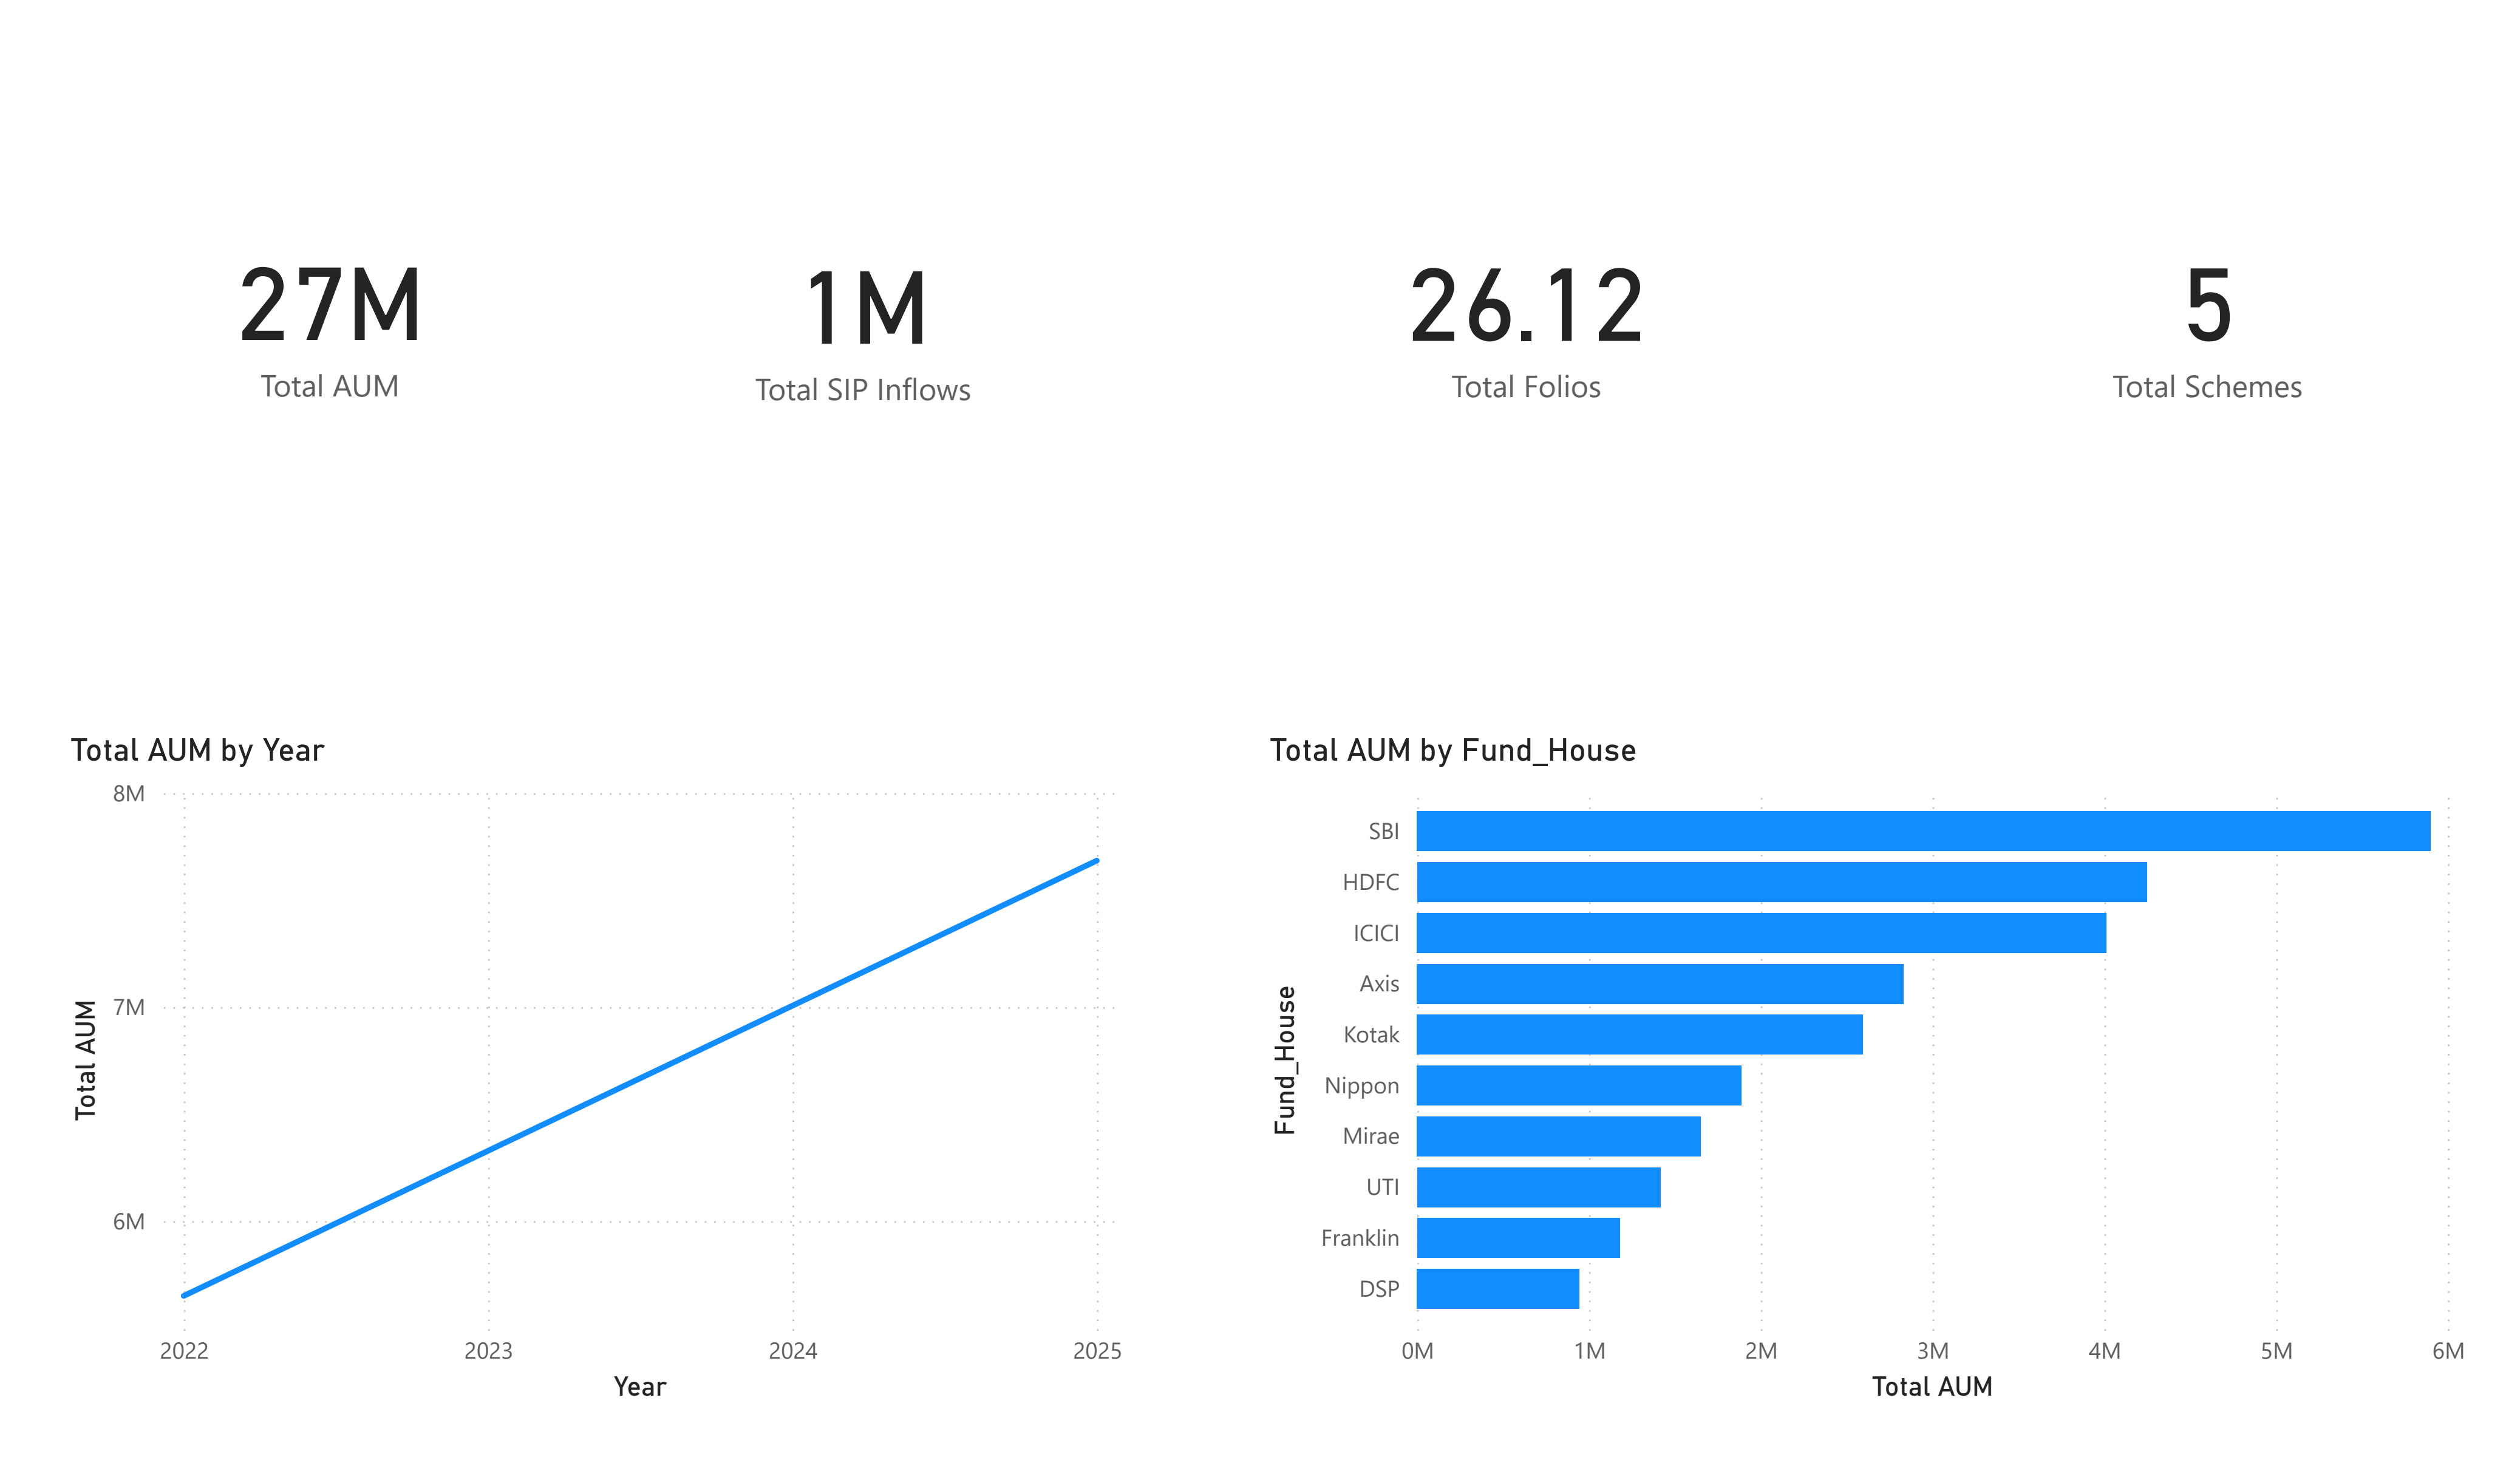

This screenshot's page, from the dashboard's own definition file:
{"tool":"powerbi","page":{"name":"Industry Overview","canvas":[1280,720],"ordinal":0},"visuals":[{"type":"card","fields":{"Values":["aum_data.Total AUM"]},"box":[10,0,280,280],"z":0},{"type":"card","fields":{"Values":["sip_inflows.Total SIP Inflows"]},"box":[290.4,3,281.5,278.5],"z":1000},{"type":"card","fields":{"Values":["folio_count.Total Folios"]},"box":[640,65.2,281.5,151.1],"z":2000},{"type":"card","fields":{"Values":["fund_scorecard_powerbi.Total Schemes"]},"box":[998.5,0,281.5,281.5],"z":3000},{"type":"lineChart","fields":{"Y":["aum_data.Total AUM"],"Category":["aum_data.Year"]},"box":[8.2,360.9,564,359.5],"z":4000},{"type":"clusteredBarChart","fields":{"Category":["aum_data.Fund_House"],"Y":["aum_data.Total AUM"]},"box":[640,361.5,640,358.5],"z":5000}]}

Visuals, with their boxes on the page's 1280x720 design canvas (x1, y1, x2, y2). These are canvas units, not pixel positions in the 2520x1457 screenshot, which may show the page scaled, cropped or inside an application window:
card - aum_data.Total AUM: bbox(10, 0, 290, 280)
card - sip_inflows.Total SIP Inflows: bbox(290, 3, 572, 282)
card - folio_count.Total Folios: bbox(640, 65, 922, 216)
card - fund_scorecard_powerbi.Total Schemes: bbox(998, 0, 1280, 282)
lineChart - aum_data.Total AUM x aum_data.Year: bbox(8, 361, 572, 720)
clusteredBarChart - aum_data.Fund_House x aum_data.Total AUM: bbox(640, 362, 1280, 720)
